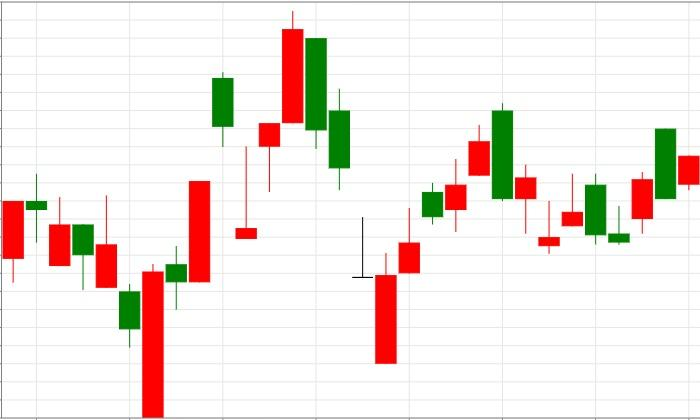bearish_engulfing_fall: (374, 102, 513, 364)
bullish_engulfing_rise: (26, 173, 164, 418)
